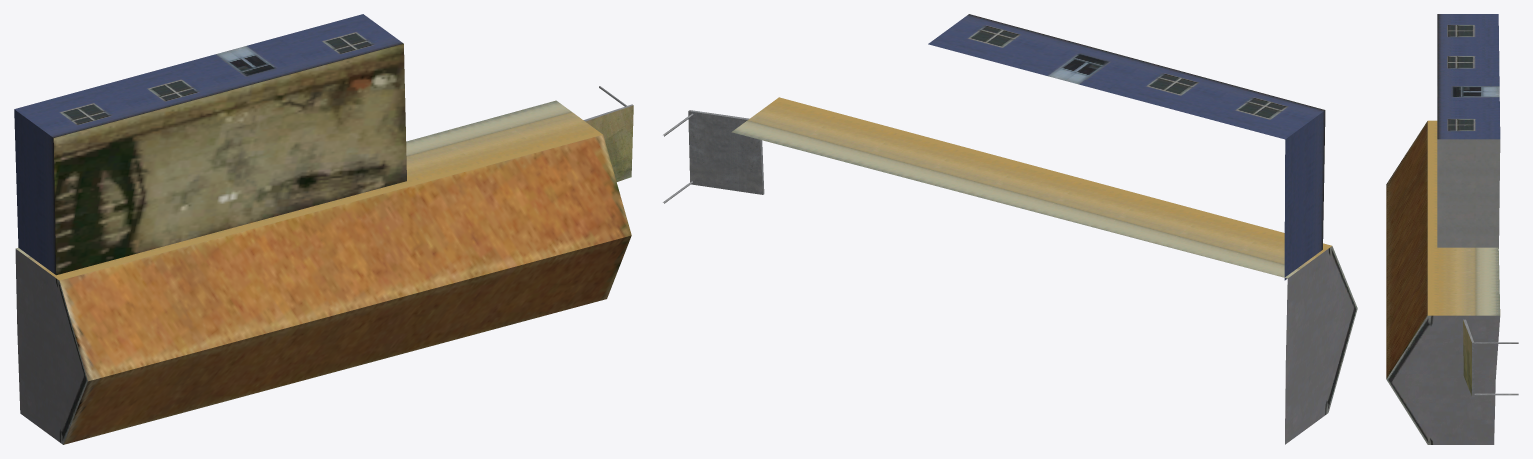
3 views of the same model, side by side, from view 1: azimuth 30°, elevation 25°; view 2: azimuth 150°, elevation 25°; view 3: azimuth 270°, elevation 25° (orthographic). The views are drawn at different scales.
Parts seen in each view (by area): view 1: Group_MatrixTransform_i96031_Geometry_7, Group_MatrixTransform_i96031_Geometry_6, Group_MatrixTransform_i96031_Geometry_5, Group_MatrixTransform_i96031_Geometry_2, Group_MatrixTransform_i96031_Geometry_3, Group_MatrixTransform_i96031_Geometry_1, Group_MatrixTransform_i96031_Geometry_0, Group_MatrixTransform_i96031_Geometry_4; view 2: Group_MatrixTransform_i96031_Geometry_5, Group_MatrixTransform_i96031_Geometry_2, Group_MatrixTransform_i96031_Geometry_3, Group_MatrixTransform_i96031_Geometry_1, Group_MatrixTransform_i96031_Geometry_11, Group_MatrixTransform_i96031_Geometry_0; view 3: Group_MatrixTransform_i96031_Geometry_3, Group_MatrixTransform_i96031_Geometry_7, Group_MatrixTransform_i96031_Geometry_10, Group_MatrixTransform_i96031_Geometry_5, Group_MatrixTransform_i96031_Geometry_2, Group_MatrixTransform_i96031_Geometry_0, Group_MatrixTransform_i96031_Geometry_4, Group_MatrixTransform_i96031_Geometry_11.
Boxes of the visible parts, bbox=[...] form: Group_MatrixTransform_i96031_Geometry_7: bbox=[59, 135, 631, 444]; Group_MatrixTransform_i96031_Geometry_6: bbox=[53, 43, 406, 274]; Group_MatrixTransform_i96031_Geometry_5: bbox=[16, 100, 602, 280]; Group_MatrixTransform_i96031_Geometry_2: bbox=[14, 14, 403, 137]; Group_MatrixTransform_i96031_Geometry_3: bbox=[15, 249, 87, 444]; Group_MatrixTransform_i96031_Geometry_1: bbox=[14, 109, 56, 274]; Group_MatrixTransform_i96031_Geometry_0: bbox=[189, 38, 315, 90]; Group_MatrixTransform_i96031_Geometry_4: bbox=[585, 105, 633, 181]; Group_MatrixTransform_i96031_Geometry_5: bbox=[731, 97, 1331, 278]; Group_MatrixTransform_i96031_Geometry_2: bbox=[928, 14, 1324, 139]; Group_MatrixTransform_i96031_Geometry_3: bbox=[1285, 246, 1357, 444]; Group_MatrixTransform_i96031_Geometry_1: bbox=[1284, 110, 1325, 280]; Group_MatrixTransform_i96031_Geometry_11: bbox=[663, 110, 764, 203]; Group_MatrixTransform_i96031_Geometry_0: bbox=[1017, 38, 1146, 91]; Group_MatrixTransform_i96031_Geometry_3: bbox=[1386, 315, 1500, 444]; Group_MatrixTransform_i96031_Geometry_7: bbox=[1386, 121, 1427, 378]; Group_MatrixTransform_i96031_Geometry_10: bbox=[1437, 139, 1500, 248]; Group_MatrixTransform_i96031_Geometry_5: bbox=[1427, 120, 1500, 315]; Group_MatrixTransform_i96031_Geometry_2: bbox=[1437, 14, 1500, 139]; Group_MatrixTransform_i96031_Geometry_0: bbox=[1437, 76, 1499, 107]; Group_MatrixTransform_i96031_Geometry_4: bbox=[1463, 320, 1471, 395]; Group_MatrixTransform_i96031_Geometry_11: bbox=[1463, 319, 1518, 396].
Bounding box in the file's own units: 33.73 × 16.68 × 8.28.
12 materials, 12 textured.
